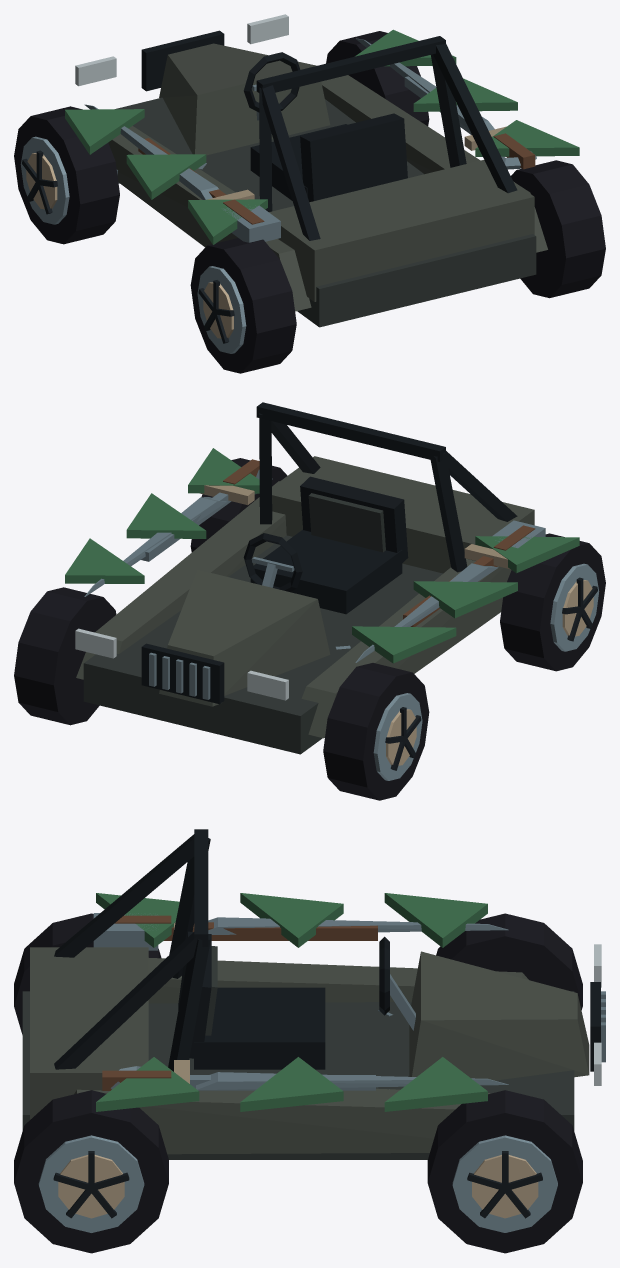
Rendered from kart.glb.
3 views of the same model, one above another, from view 1: azimuth 30°, elevation 25°; view 2: azimuth 150°, elevation 25°; view 3: azimuth 270°, elevation 25° (orthographic). The views are drawn at different scales.
Parts seen in each view (by area): view 1: identity-buggy-buggy-offroad-frame, wheel-rear-left, wheel-front-left, identity-buggy-motif-leaves, identity-buggy-driver-cockpit, wheel-rear-right, identity-buggy-motif-swords, wheel-front-right, identity-buggy-motif-tools; view 2: identity-buggy-buggy-offroad-frame, identity-buggy-driver-cockpit, identity-buggy-motif-leaves, wheel-front-left, wheel-rear-left, wheel-front-right, identity-buggy-motif-swords, identity-buggy-motif-tools, wheel-rear-right; view 3: identity-buggy-buggy-offroad-frame, wheel-front-right, wheel-rear-right, identity-buggy-motif-leaves, identity-buggy-driver-cockpit, wheel-front-left, identity-buggy-motif-swords, identity-buggy-motif-tools, wheel-rear-left.
Boxes of the visible parts, x1,y1,x2,y2 form: identity-buggy-buggy-offroad-frame: (75, 14, 547, 327); wheel-rear-left: (190, 238, 296, 373); wheel-front-left: (14, 106, 119, 244); identity-buggy-motif-leaves: (65, 29, 579, 244); identity-buggy-driver-cockpit: (243, 52, 407, 202); wheel-rear-right: (511, 160, 605, 298); identity-buggy-motif-swords: (84, 38, 535, 224); wheel-front-right: (326, 31, 429, 126); identity-buggy-motif-tools: (138, 76, 536, 242); identity-buggy-buggy-offroad-frame: (75, 402, 534, 754); identity-buggy-driver-cockpit: (243, 476, 408, 614); identity-buggy-motif-leaves: (65, 448, 579, 663); wheel-front-left: (323, 663, 429, 800); wheel-rear-left: (500, 533, 605, 671); wheel-front-right: (14, 587, 116, 725); identity-buggy-motif-swords: (84, 459, 535, 662); identity-buggy-motif-tools: (141, 469, 545, 626); wheel-rear-right: (190, 458, 287, 552); identity-buggy-buggy-offroad-frame: (22, 829, 605, 1159); wheel-front-right: (427, 1090, 582, 1253); wheel-rear-right: (14, 1090, 168, 1253); identity-buggy-motif-leaves: (96, 893, 487, 1111); identity-buggy-driver-cockpit: (178, 931, 415, 1069); wheel-front-left: (436, 913, 582, 1010); identity-buggy-motif-swords: (102, 915, 508, 1090); identity-buggy-motif-tools: (93, 913, 377, 1090); wheel-rear-left: (14, 913, 161, 1034).
Size of the model in its own units: 2.31 by 1.39 by 2.75.
